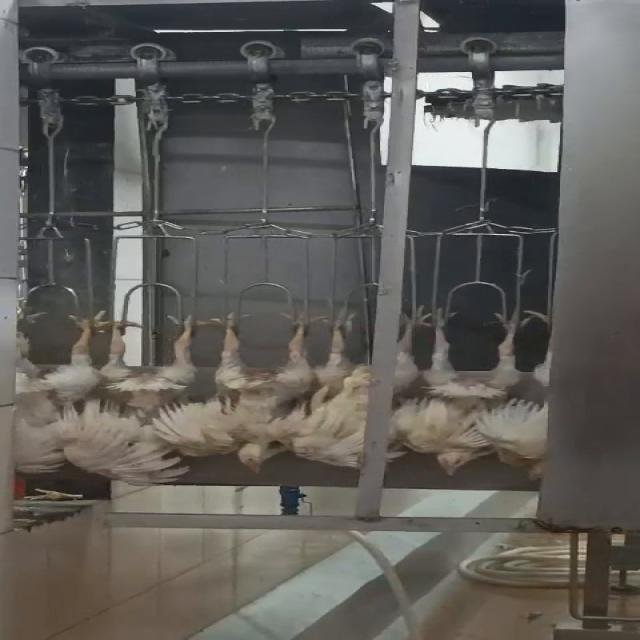chicken: (187, 302, 331, 472), (389, 304, 531, 476), (100, 313, 234, 489), (0, 299, 133, 476), (283, 302, 381, 469), (487, 304, 557, 476)
